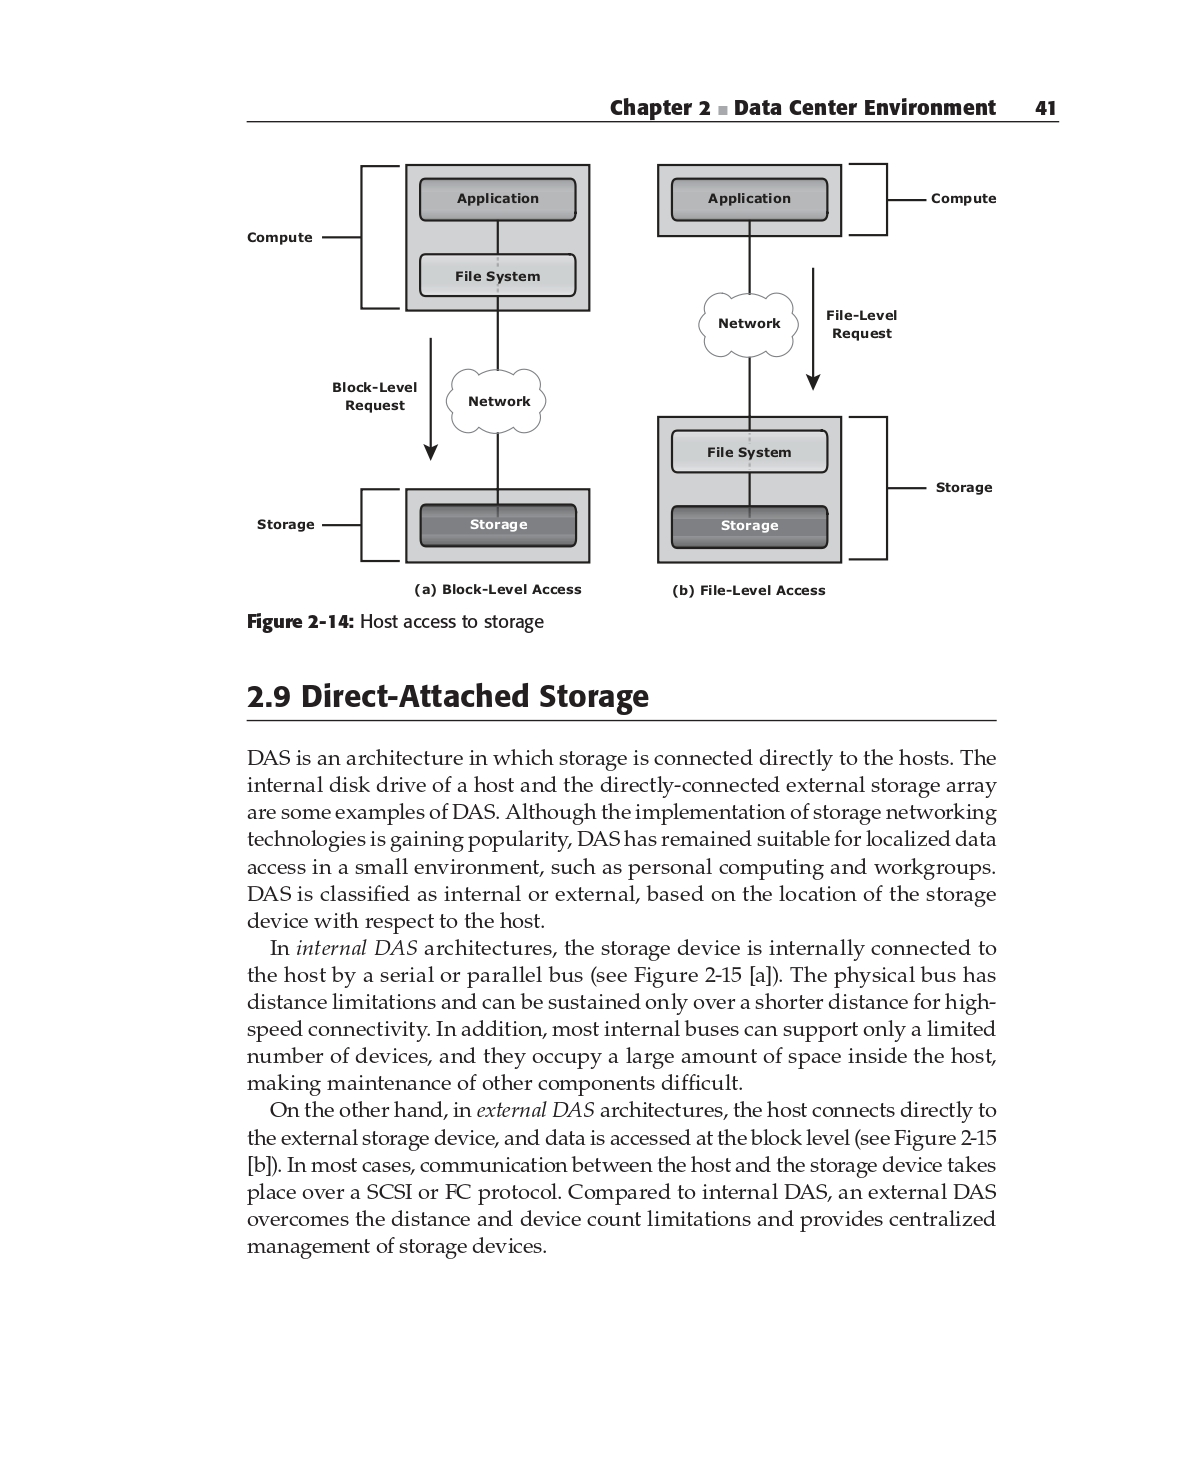Image: (234, 135, 1011, 607)
Paragraph: (222, 736, 1001, 928), (245, 1101, 1011, 1262), (255, 934, 1007, 1092), (230, 665, 675, 721), (605, 79, 1080, 120), (225, 607, 561, 642)
